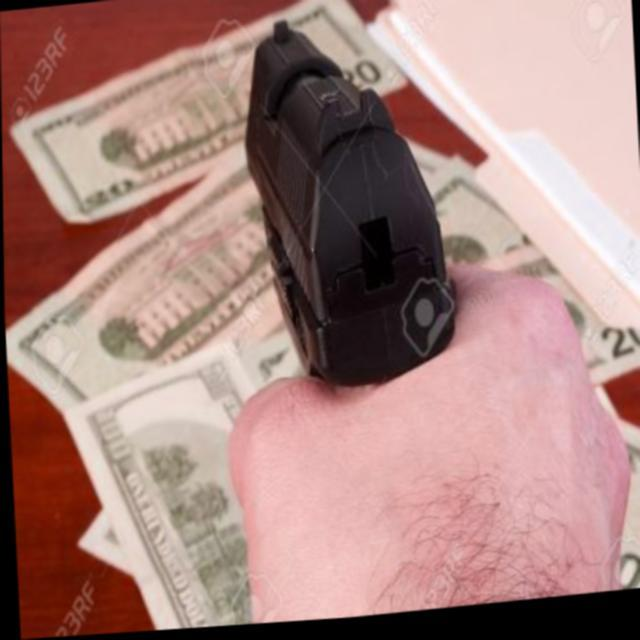weapon: (216, 0, 524, 629)
